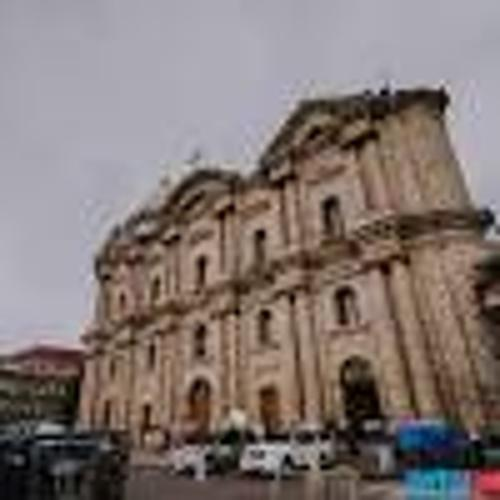Taal Basilica Church: (51, 78, 500, 445)
